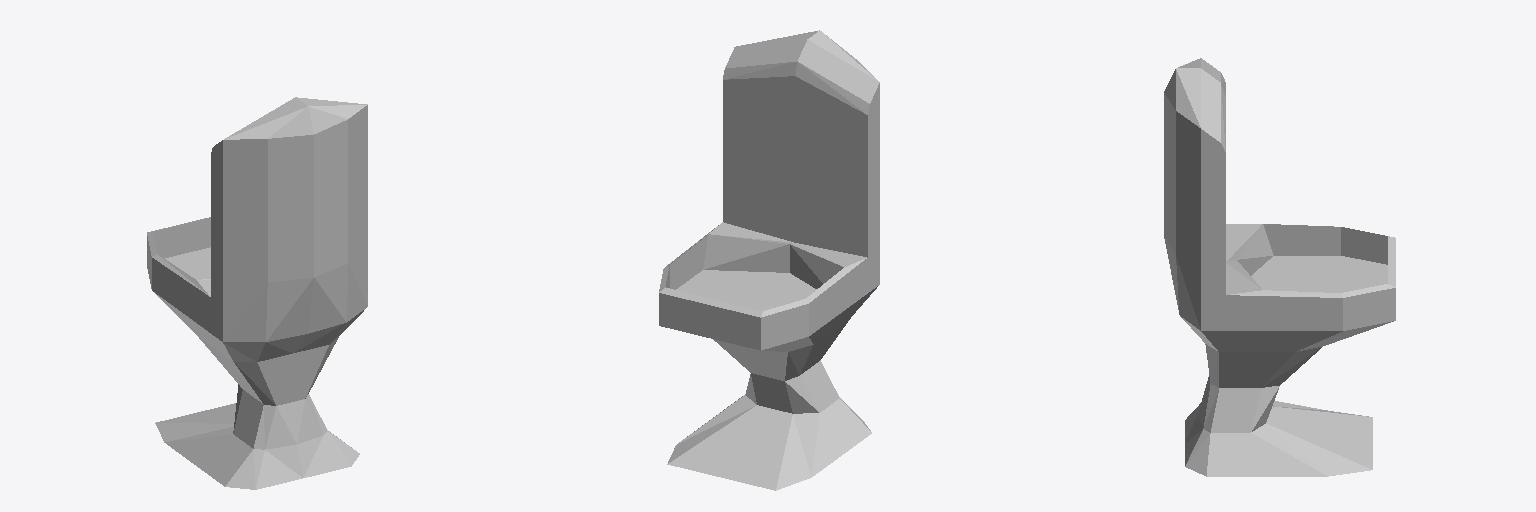
File: toilet.obj
3 renders of one model, left to right at view 1: azimuth 30°, elevation 25°; view 2: azimuth 150°, elevation 25°; view 3: azimuth 270°, elevation 25°, orthographic.
Visible parts, largest first — view 1: toilet; view 2: toilet; view 3: toilet.
Boxes of the visible parts, box(x1,y1,x2,y2) form: toilet: box(147, 97, 367, 489); toilet: box(659, 30, 879, 490); toilet: box(1164, 58, 1395, 476).
Bounding box in the file's own units: 0.5666 × 1.4 × 0.7861.